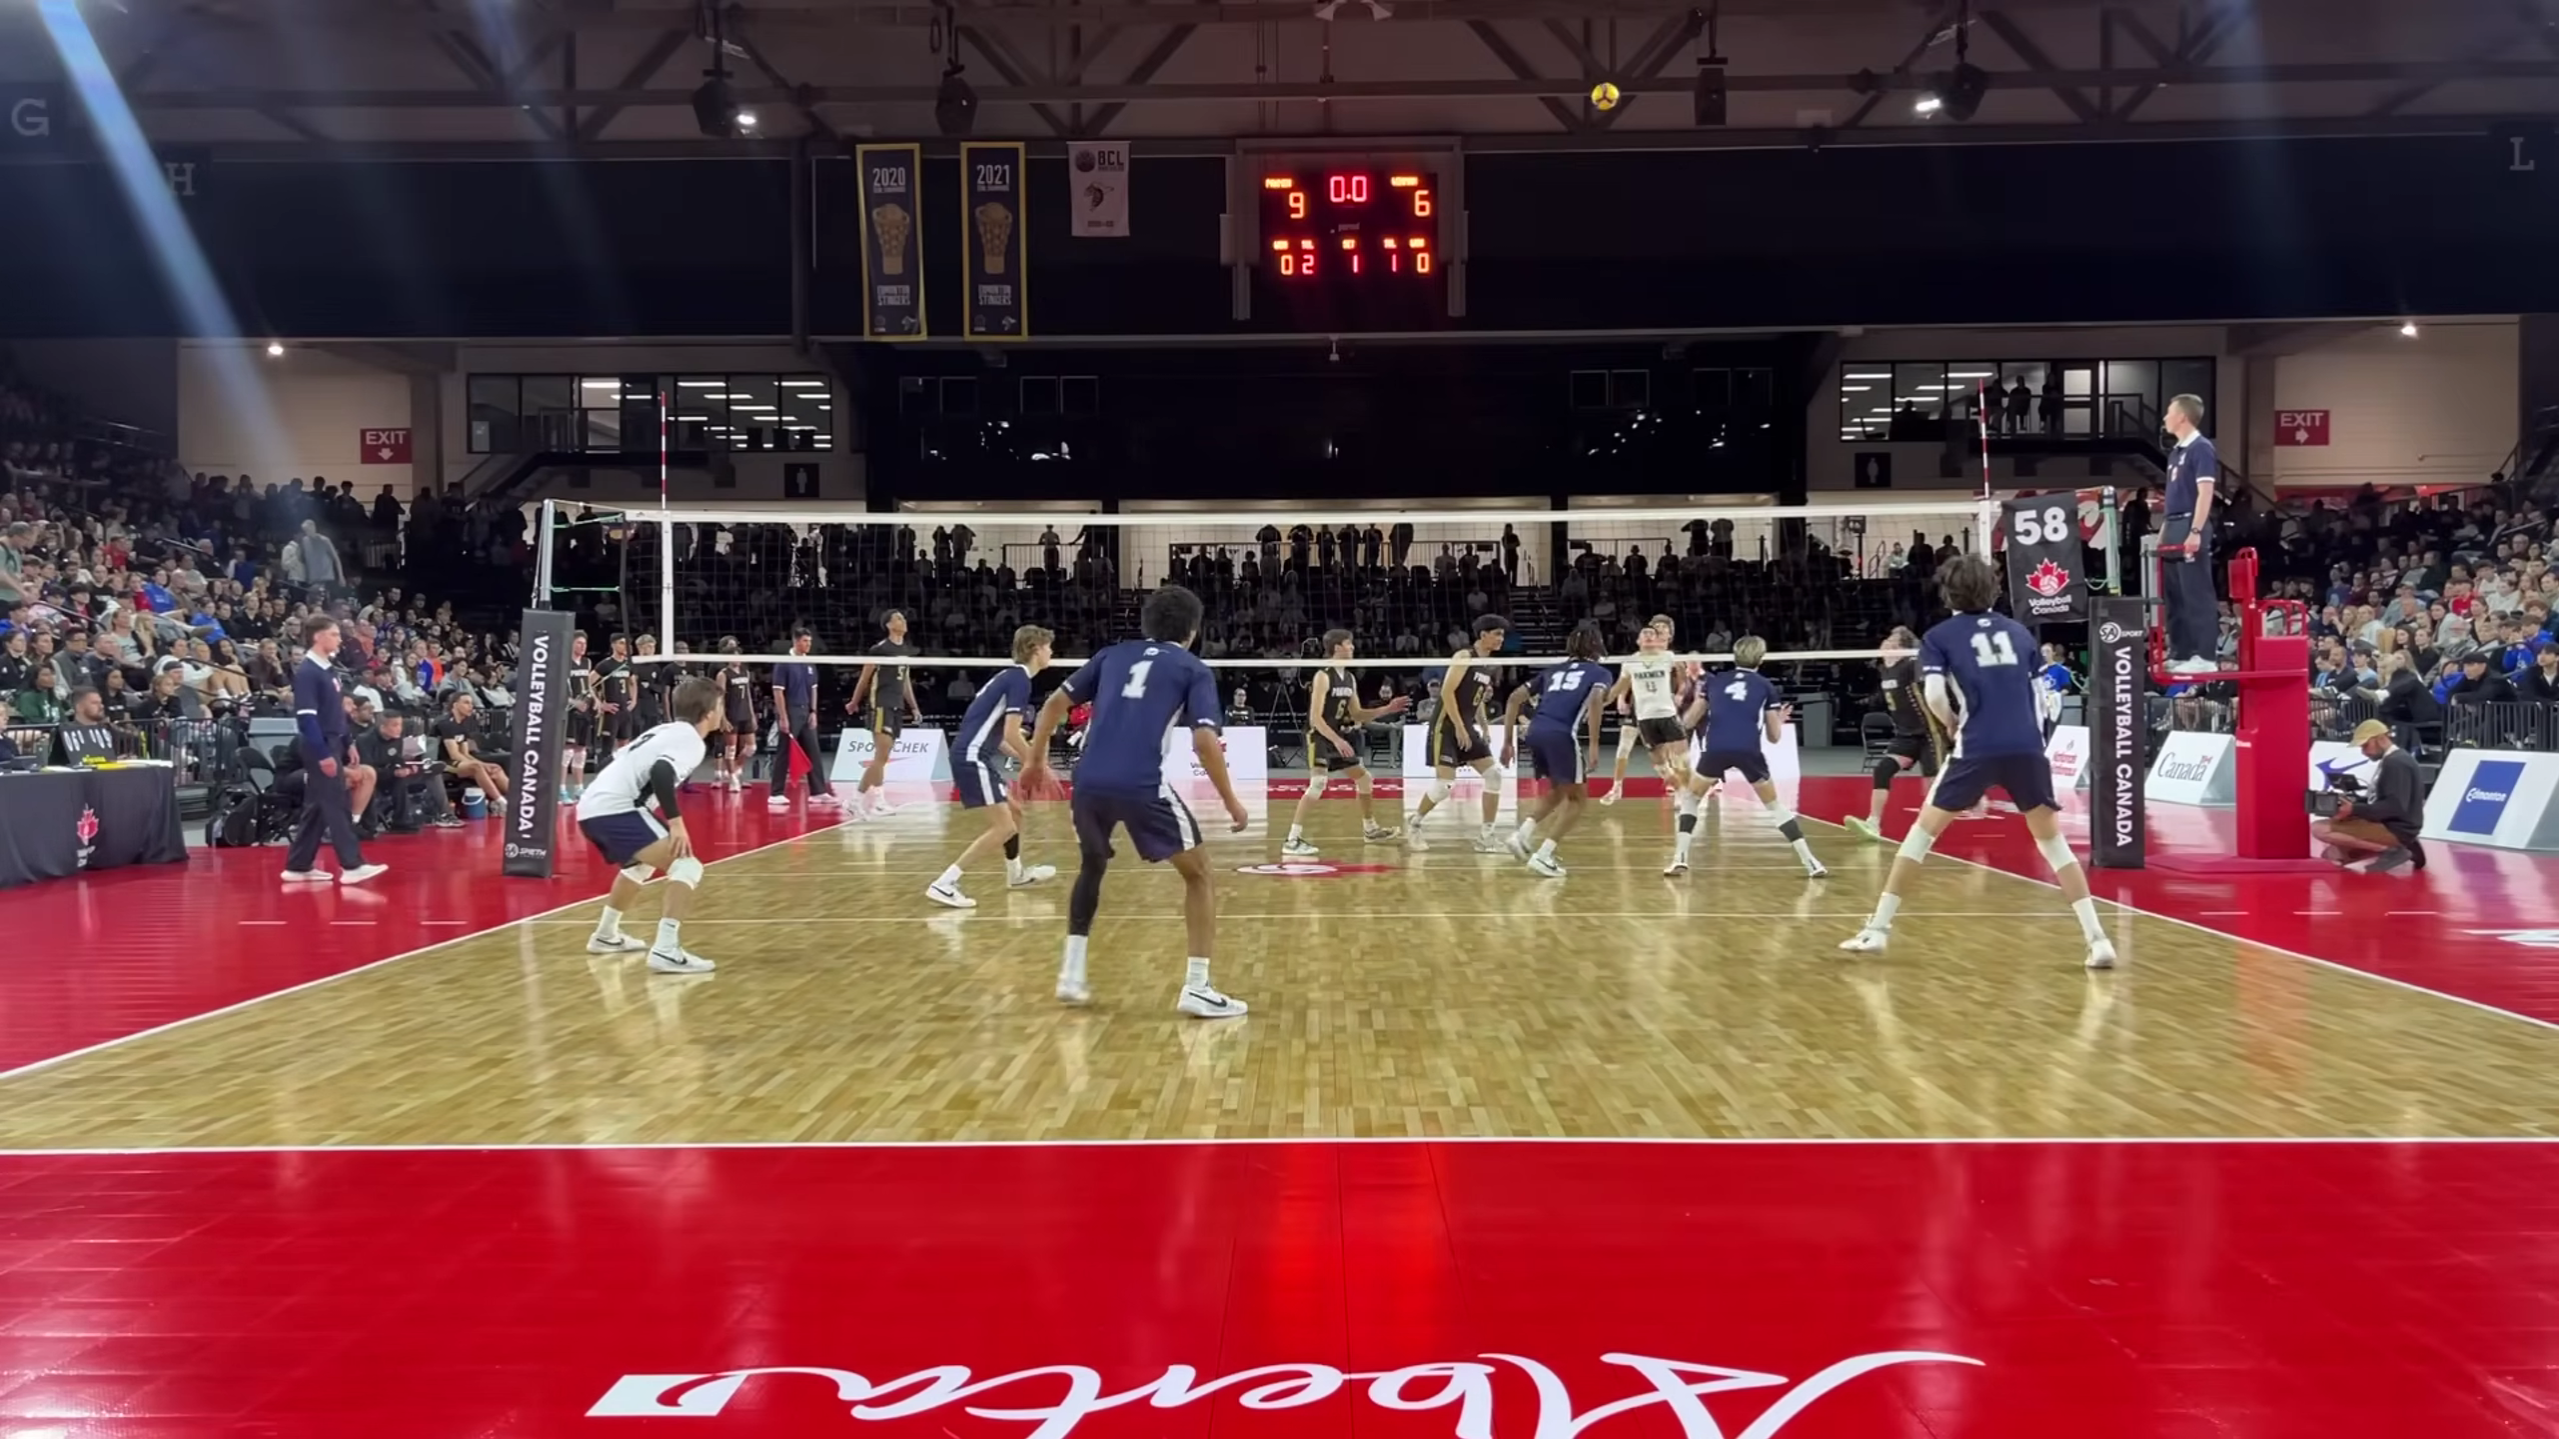Ball: (1589, 81, 1620, 112)
